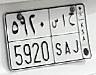0: (40, 21, 50, 62)
5: (10, 20, 23, 67)
S: (51, 17, 63, 57)
